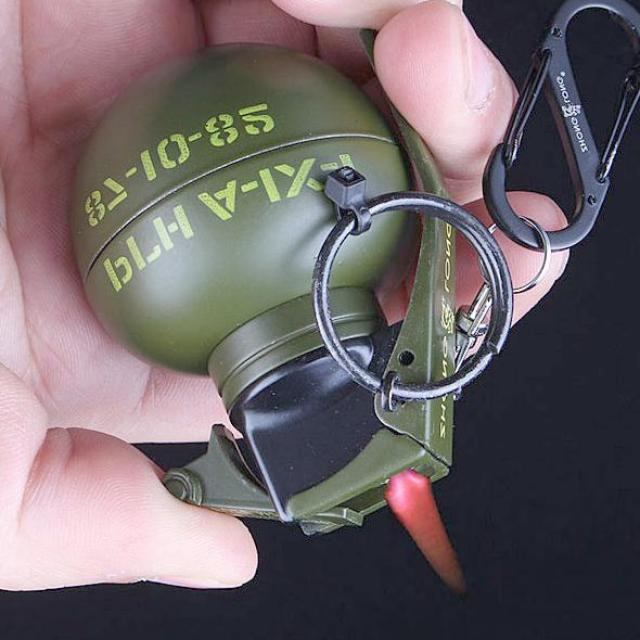grenade: (69, 41, 514, 538)
